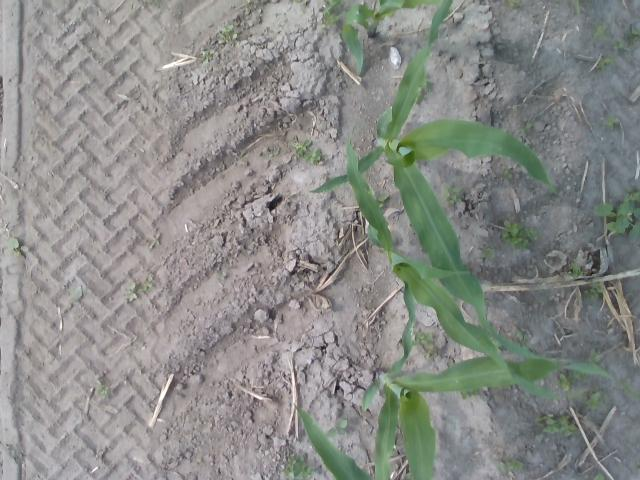Maize: (309, 0, 559, 360), (360, 282, 614, 480), (368, 204, 584, 401), (322, 0, 440, 77), (294, 404, 372, 480)
Weeds: (593, 202, 640, 238), (503, 220, 534, 248), (284, 455, 304, 479), (586, 392, 603, 412), (444, 184, 462, 202), (11, 238, 29, 255), (540, 416, 557, 434), (626, 25, 640, 46), (560, 418, 574, 436), (413, 332, 432, 344), (296, 140, 310, 156), (559, 374, 572, 391), (127, 282, 137, 303), (308, 148, 322, 163), (517, 331, 529, 348), (482, 246, 496, 260), (323, 12, 337, 26), (149, 233, 161, 249), (594, 25, 607, 39), (591, 282, 602, 298), (597, 57, 614, 67), (142, 276, 153, 291), (623, 192, 639, 202), (74, 284, 84, 300), (462, 390, 478, 400), (508, 460, 524, 470), (520, 122, 532, 135), (302, 466, 313, 478), (571, 262, 581, 274), (378, 196, 390, 206), (614, 40, 624, 51), (509, 0, 520, 10), (423, 348, 435, 357), (608, 116, 618, 126), (218, 34, 228, 44), (498, 460, 506, 472), (202, 50, 215, 57), (99, 384, 108, 394), (339, 420, 348, 429), (222, 26, 235, 32), (504, 171, 512, 180), (593, 474, 604, 480), (327, 428, 337, 434), (220, 272, 227, 280), (232, 34, 238, 40)
